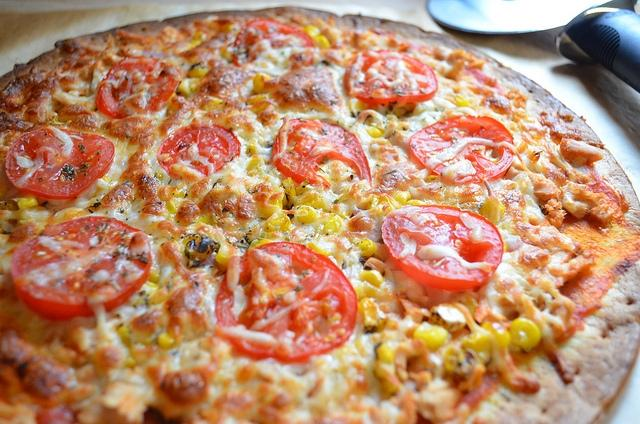tomato: (214, 241, 358, 366), (10, 216, 152, 320), (381, 204, 504, 291), (5, 128, 115, 200), (408, 115, 514, 185), (272, 116, 373, 188), (94, 56, 180, 119), (343, 49, 438, 105), (158, 120, 242, 177), (232, 17, 316, 67)
